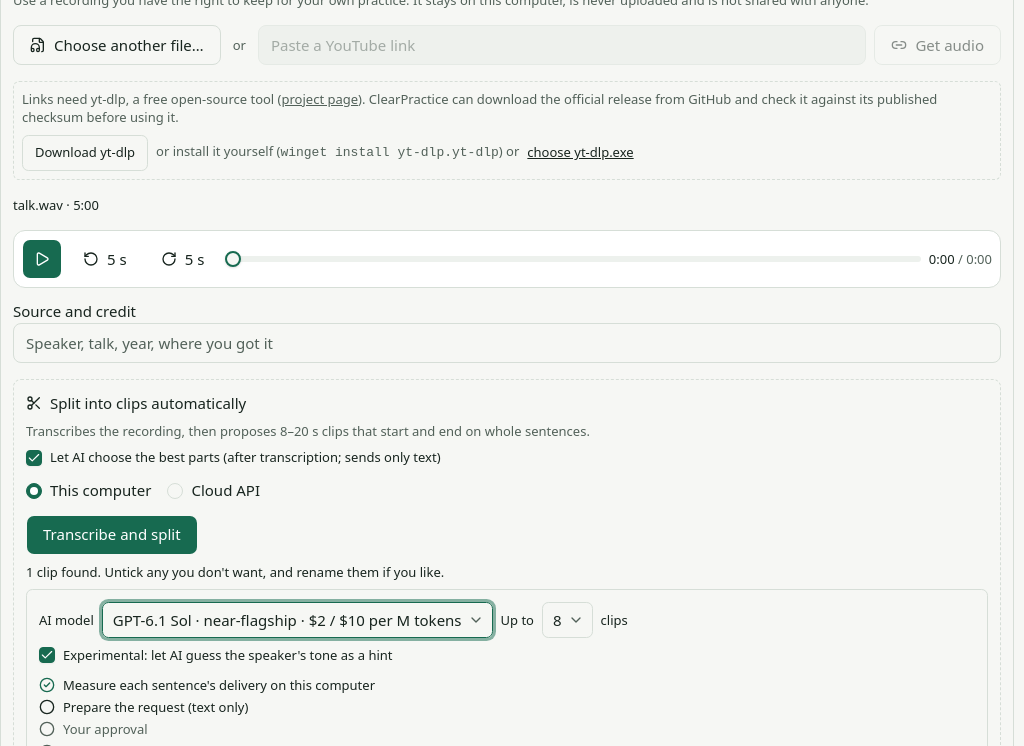
Test: lets AI choose the best parts from the annotated transcript, with the tone hint only when ticked (4.4e, 4.4g)
The image size is (1024, 746).
Earlier steps of the test are not shown.
Later steps or results of the test are not shown.
Step 1. Click the 1st checkbox named "Let AI choose the best parts" → (34, 458), box [26,450,42,466]
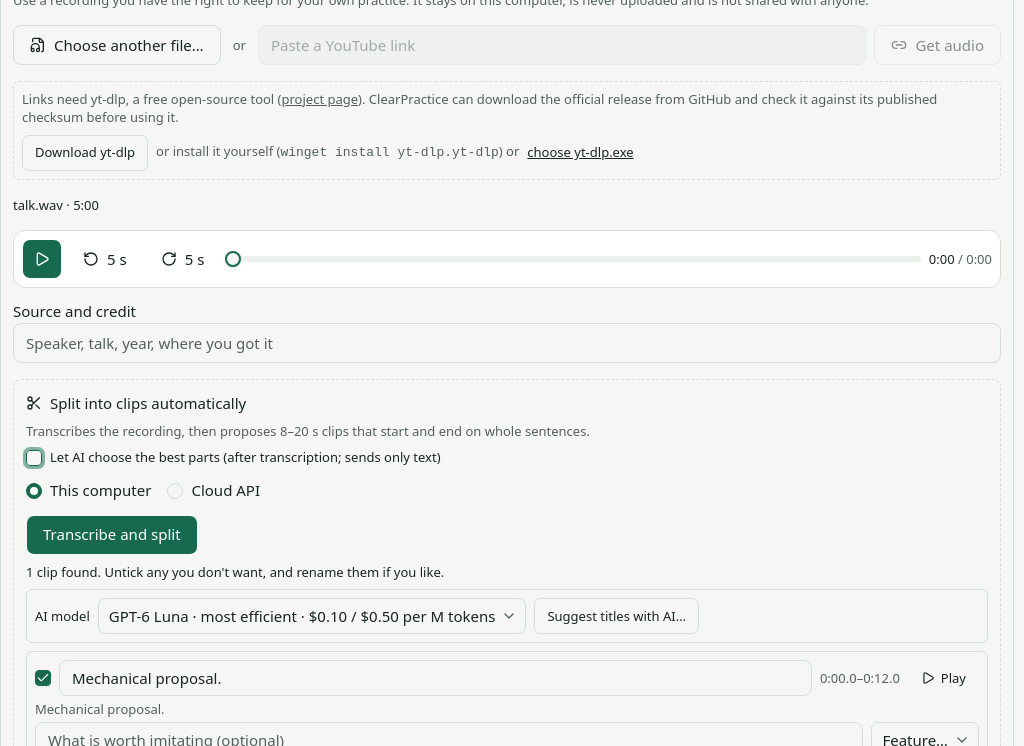
Result: the button "Suggest titles with AI…" is shown at [534,598,699,634]
Step 2. Click the checkbox named "Let AI choose the best parts" → (34, 458), box [26,450,42,466]
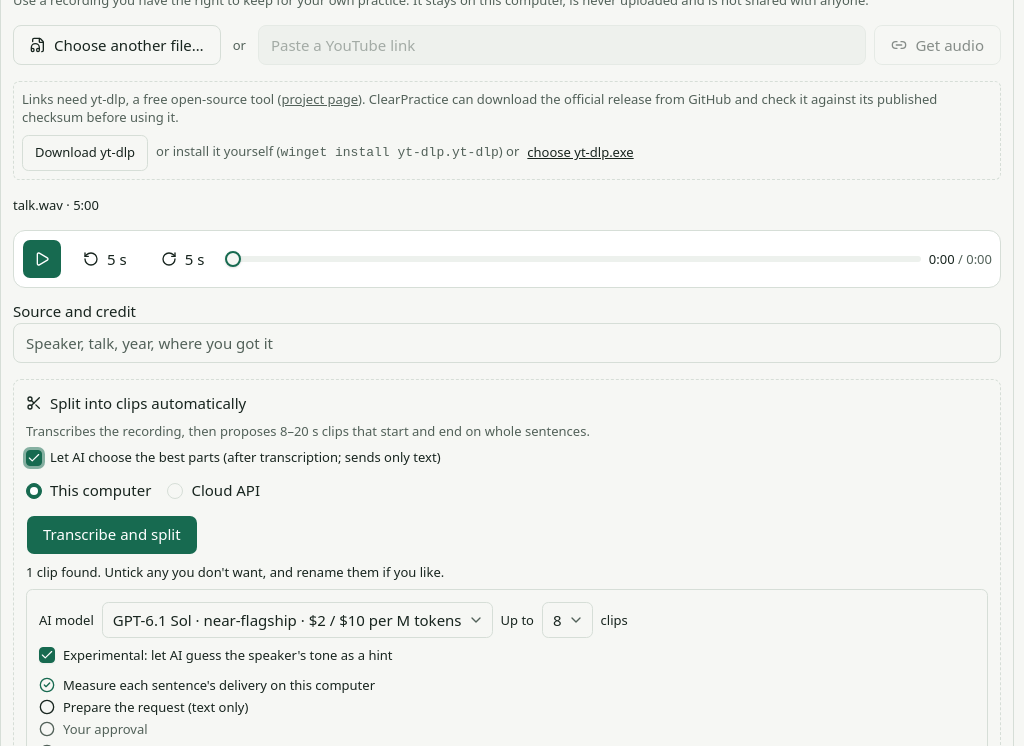
Result: the checkbox named "Experimental: let AI guess the speaker's tone" below "AI model" is checked at [39,647,55,663]
Result: the dropdown named "AI model" shows "GPT-6.1 Sol"
Step 3. Click the dropdown named "AI model" → (297, 620), box [102,602,493,638]
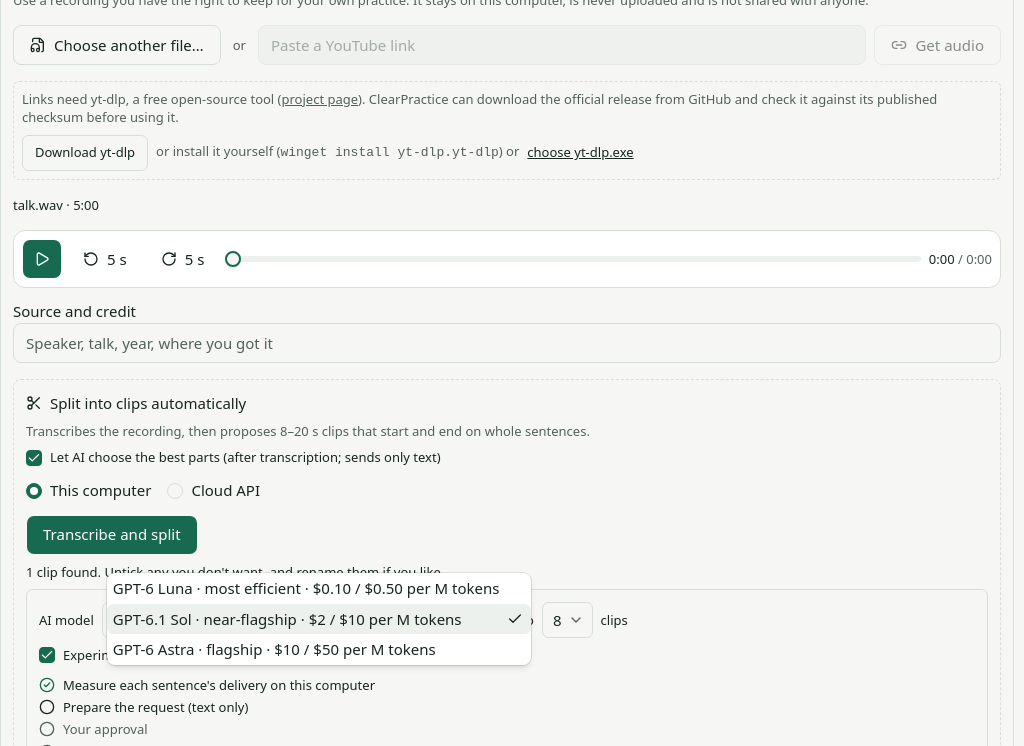
Step 4. Click the option "GPT-6 Luna · most efficient · $0.10 / $0.50 per M tokens" → (319, 589), box [107,573,532,604]
(page scrolled)
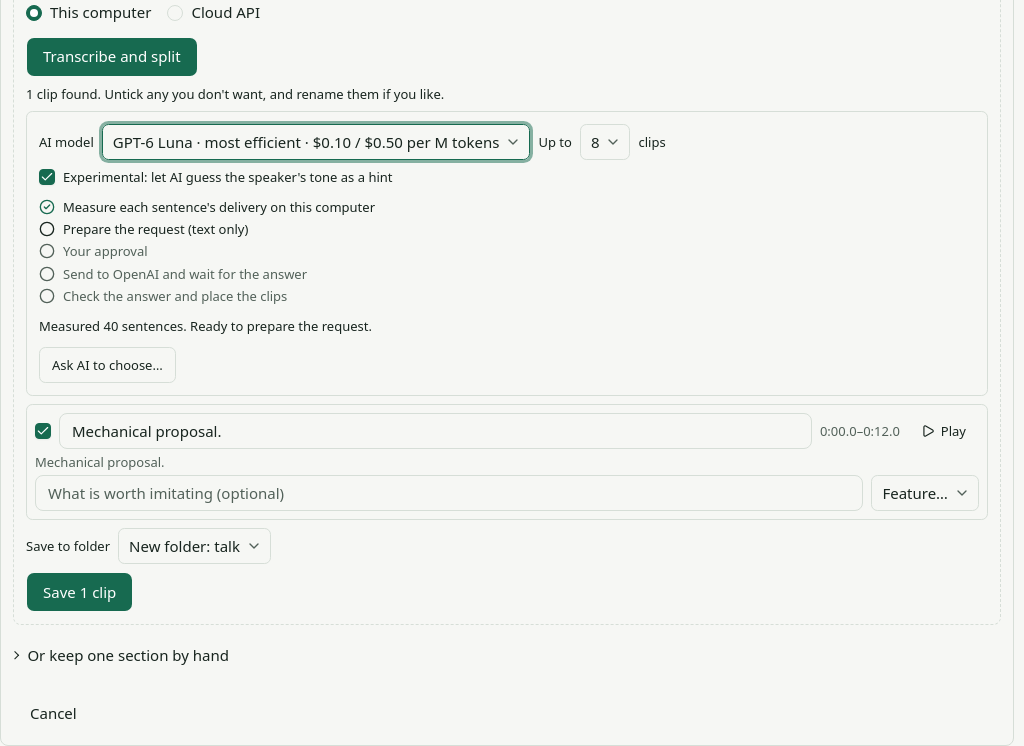
Step 5. Click the button "Ask AI to choose…" → (107, 365), box [39,347,176,383]
(page scrolled)
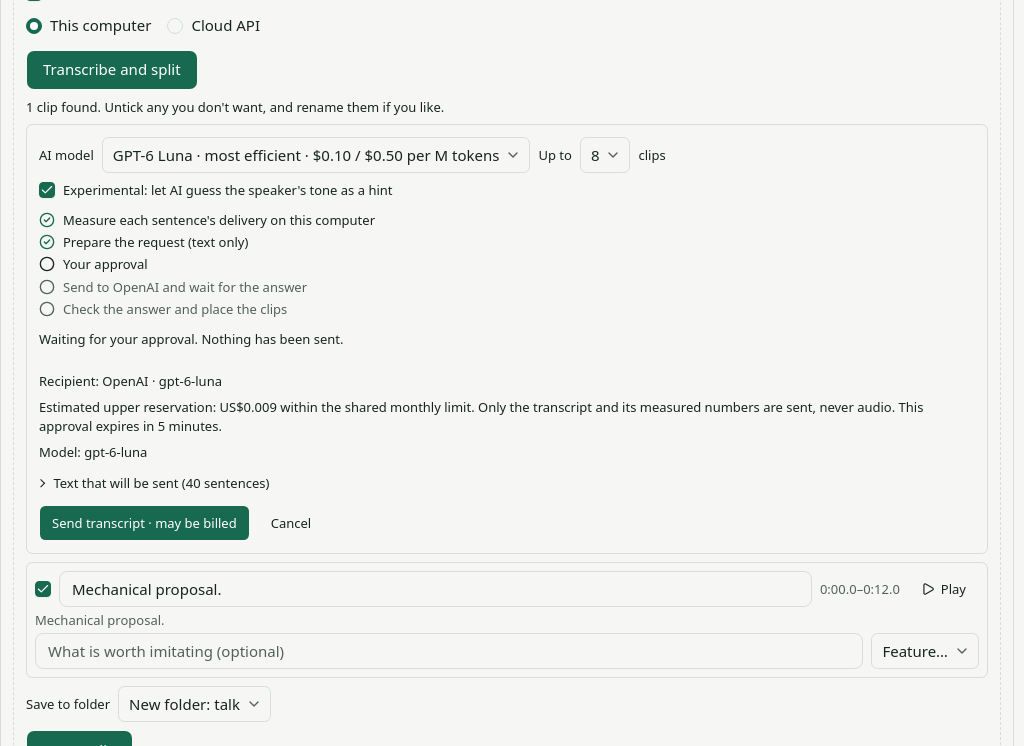
Result: the element named "AI clip choice request preview" shows "never audio" at [39,398,924,434]
Result: the message named "AI choice progress" reads "Waiting for your approval. Nothing has been sent." at [39,330,343,348]
Step 6. Click the button "Send transcript · may be billed" → (144, 523), box [39,505,250,541]
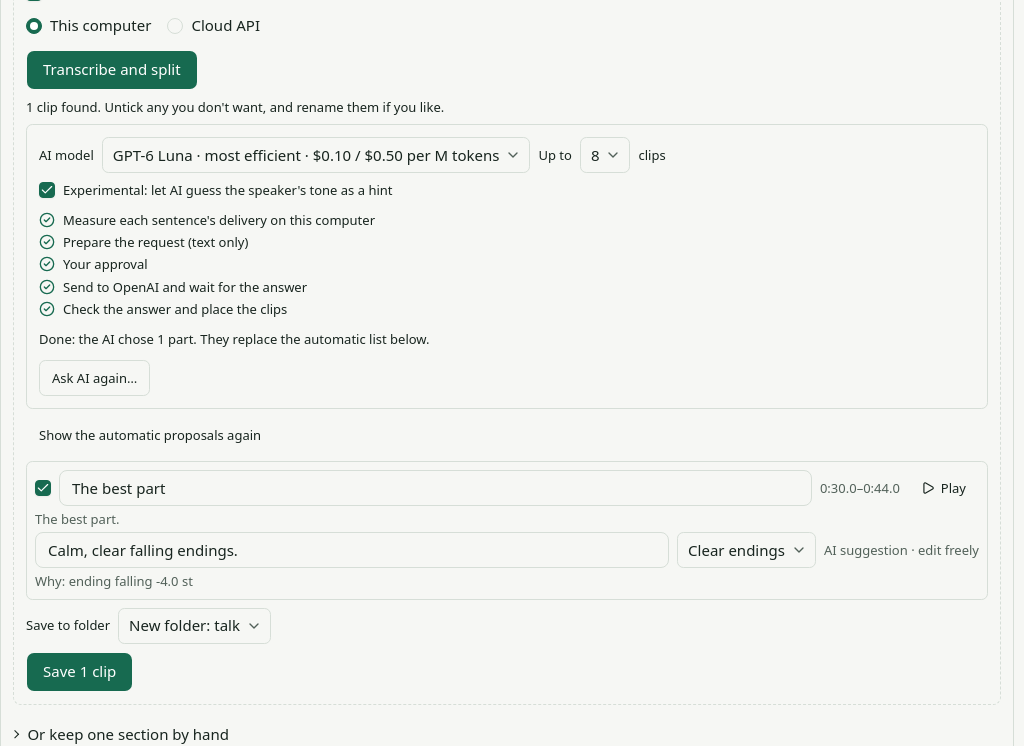
Result: the field named "Title of clip 1" holds "The best part" at [59,470,812,506]
Result: the message named "AI choice progress" shows "Done: the AI chose 1 part." at [39,330,430,348]
